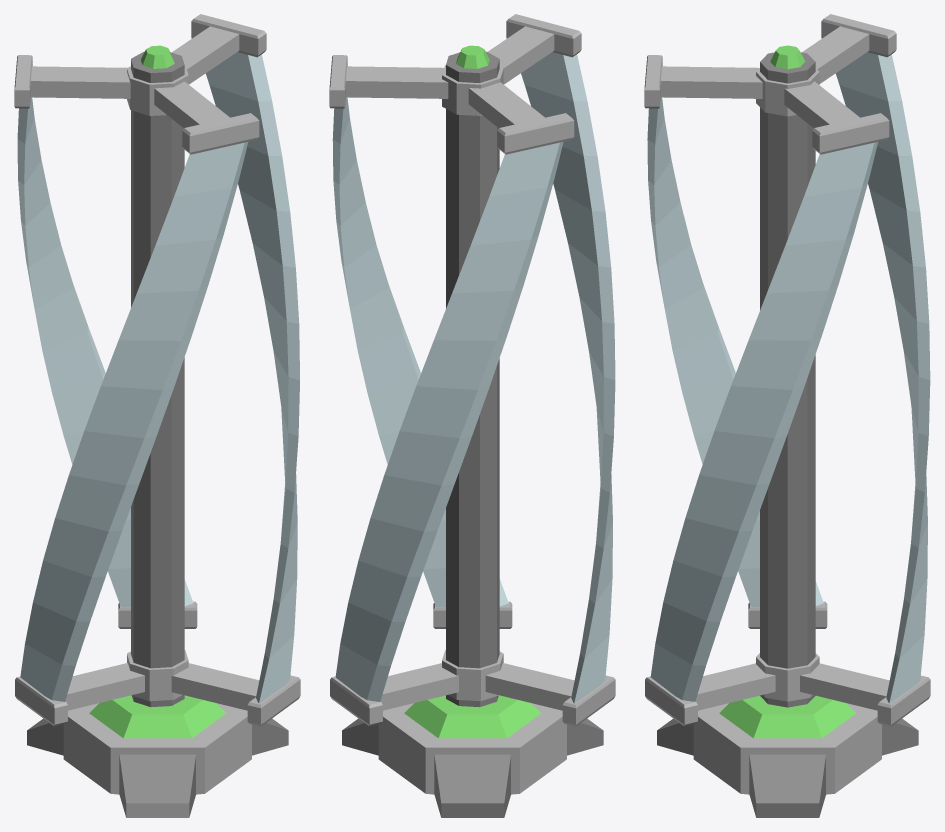
File: Windmill.fbx
The picture shows the model from 3 angles, left to right: view 1: azimuth 30°, elevation 25°; view 2: azimuth 150°, elevation 25°; view 3: azimuth 270°, elevation 25°; orthographic projection.
Parts seen in each view (by area): view 1: Propellers, WindmillShaft, Base, Support2, Support1; view 2: Propellers, WindmillShaft, Base, Support2, Support1; view 3: Propellers, WindmillShaft, Base, Support2, Support1.
Part boxes in pixels (box(x1,y1,x2,y2)): Propellers: box(17, 52, 299, 703); WindmillShaft: box(127, 45, 188, 707); Base: box(27, 695, 288, 817); Support2: box(14, 14, 266, 154); Support1: box(15, 601, 300, 726); Propellers: box(332, 52, 615, 703); WindmillShaft: box(442, 45, 503, 707); Base: box(342, 695, 603, 817); Support2: box(329, 14, 581, 154); Support1: box(330, 601, 615, 726); Propellers: box(647, 52, 930, 703); WindmillShaft: box(756, 45, 819, 707); Base: box(657, 695, 918, 817); Support2: box(644, 14, 896, 154); Support1: box(645, 601, 930, 726).
Size of the model in its own units: 227 by 621 by 226.
